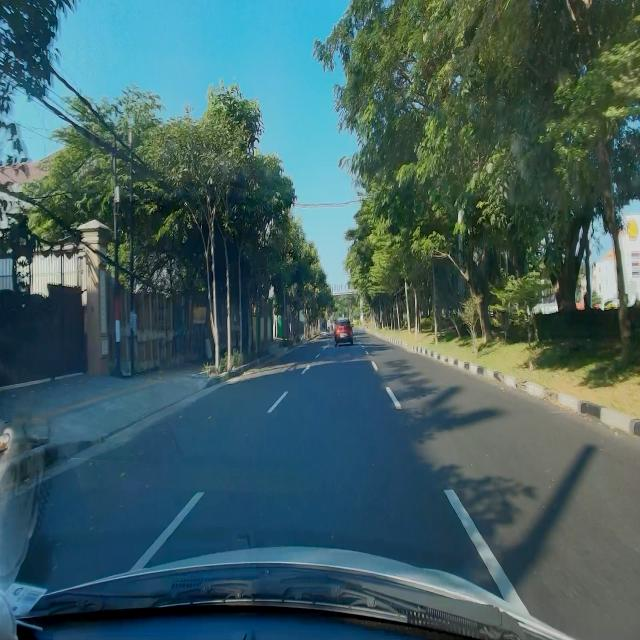car: (333, 317, 354, 348)
